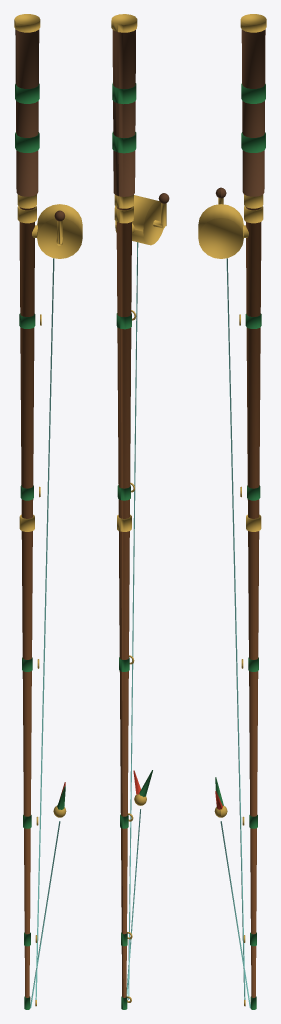
The model's file is lamberts_rute.glb.
The picture shows the model from 3 angles, left to right: view 1: azimuth 90°, elevation 25°; view 2: azimuth 150°, elevation 25°; view 3: azimuth 270°, elevation 25°; orthographic projection.
Visible parts, largest first — view 1: lamberts_rute; view 2: lamberts_rute; view 3: lamberts_rute.
Boxes of the visible parts, left/top/right/bottom form: lamberts_rute: left=14, top=14, right=82, bottom=1009; lamberts_rute: left=111, top=14, right=169, bottom=1009; lamberts_rute: left=198, top=14, right=266, bottom=1009.
Size of the model in its own units: 0.09 by 2.01 by 0.126.
